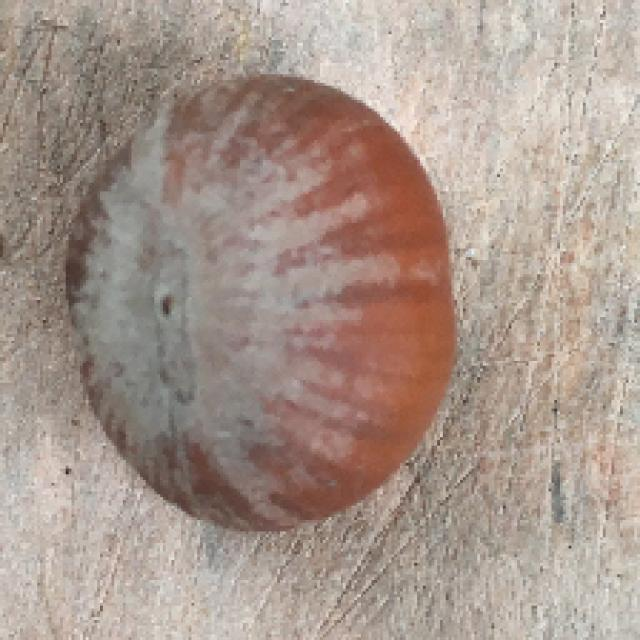qualityHazelnut: (62, 62, 454, 534)
